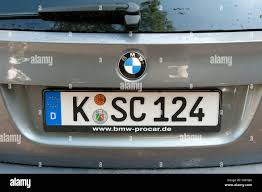licence: (41, 87, 224, 133)
